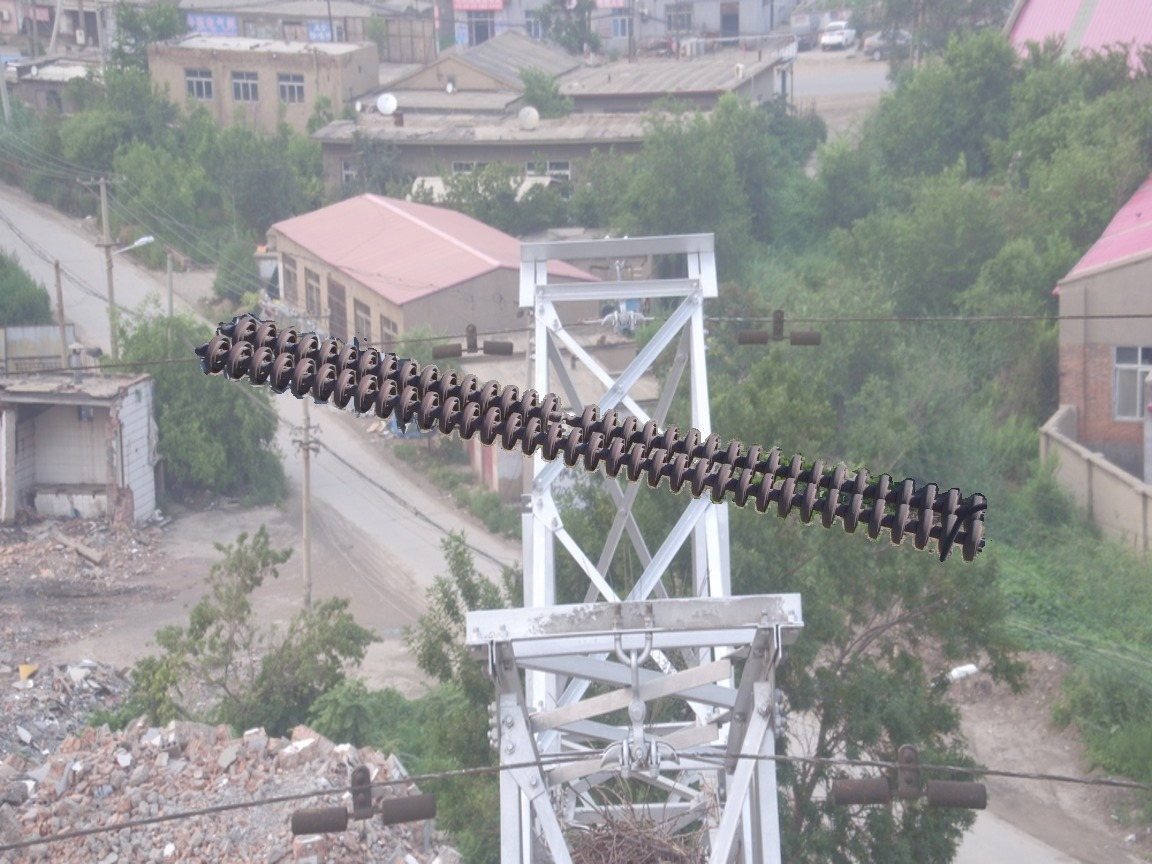defect: (532, 391, 599, 436)
